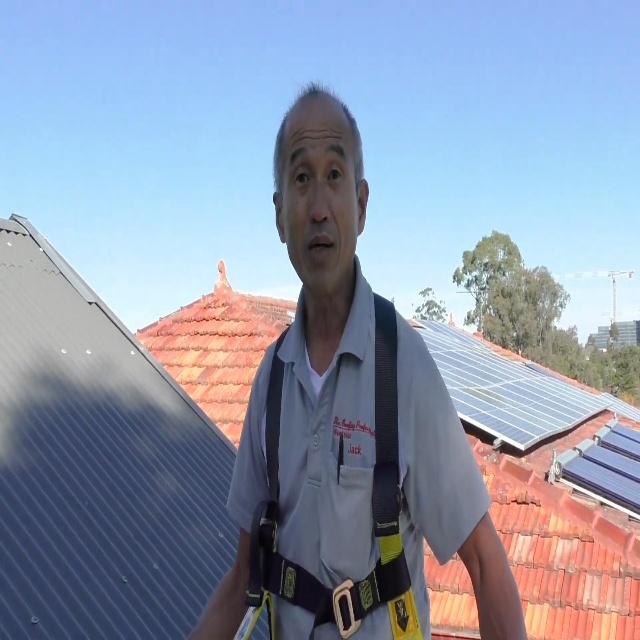Arnes_seguridad: (236, 259, 430, 640)
